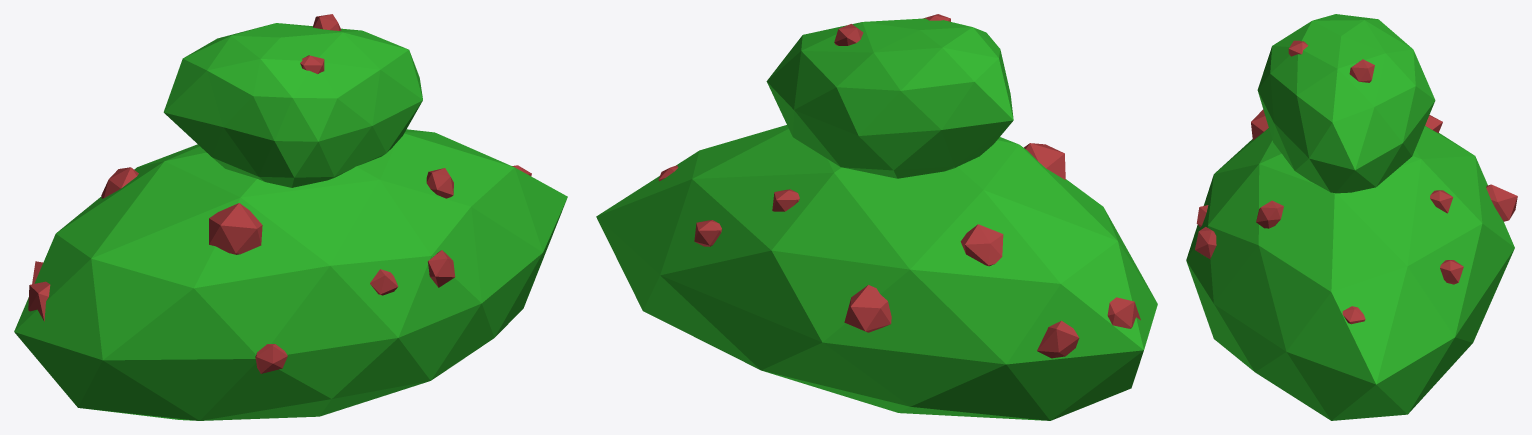
The model's file is berrybush.glb.
3 renders of one model, left to right at view 1: azimuth 30°, elevation 25°; view 2: azimuth 150°, elevation 25°; view 3: azimuth 270°, elevation 25°, orthographic. The views are drawn at different scales.
Parts seen in each view (by area): view 1: Bush, Berry; view 2: Bush, Berry; view 3: Bush, Berry.
Part boxes in pixels (x1,y1,x2,y2): Bush: [14, 23, 567, 420]; Berry: [28, 14, 531, 373]; Bush: [596, 18, 1157, 420]; Berry: [658, 14, 1140, 358]; Bush: [1186, 14, 1514, 420]; Berry: [1195, 40, 1517, 324].
Bounding box in the file's own units: 4.02 × 2.48 × 2.39.
